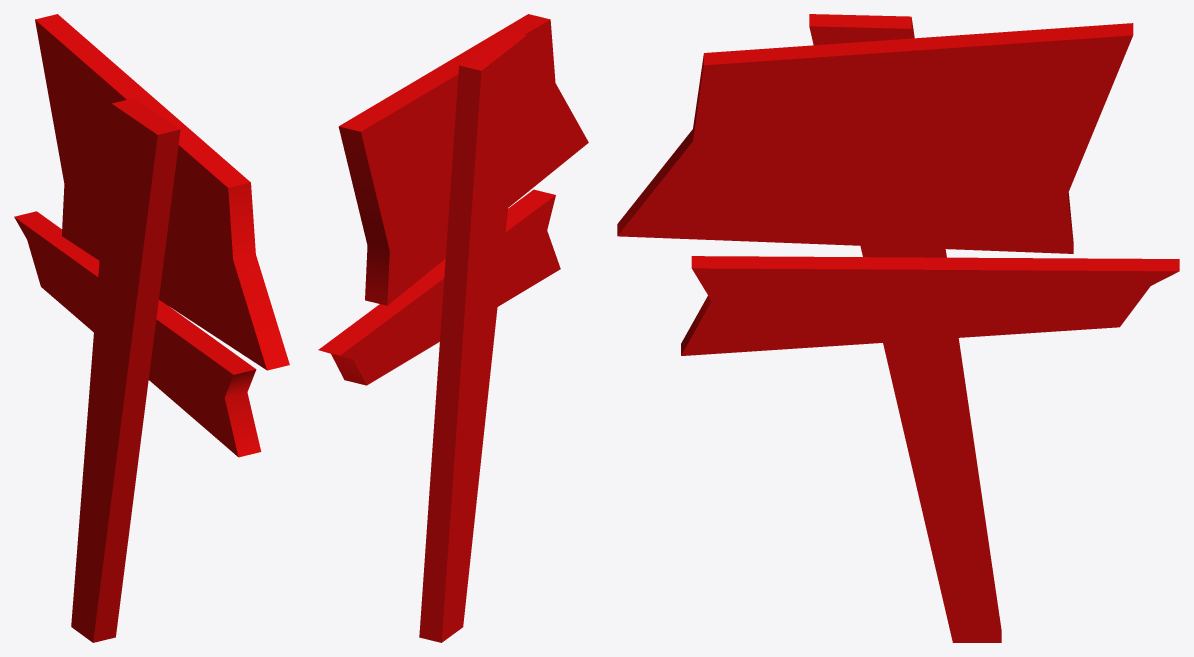
File: outpost_warning_03.fbx
The picture shows the model from 3 angles, left to right: view 1: azimuth 30°, elevation 25°; view 2: azimuth 150°, elevation 25°; view 3: azimuth 270°, elevation 25°; orthographic projection. The views are drawn at different scales.
Visible parts, largest first — view 1: warningsign_03; view 2: warningsign_03; view 3: warningsign_03.
Part boxes in pixels (bbox=[...]): warningsign_03: bbox=[14, 14, 289, 642]; warningsign_03: bbox=[318, 14, 588, 642]; warningsign_03: bbox=[617, 14, 1179, 642].
Bounding box in the file's own units: 0.7001 × 8.17 × 6.71.
